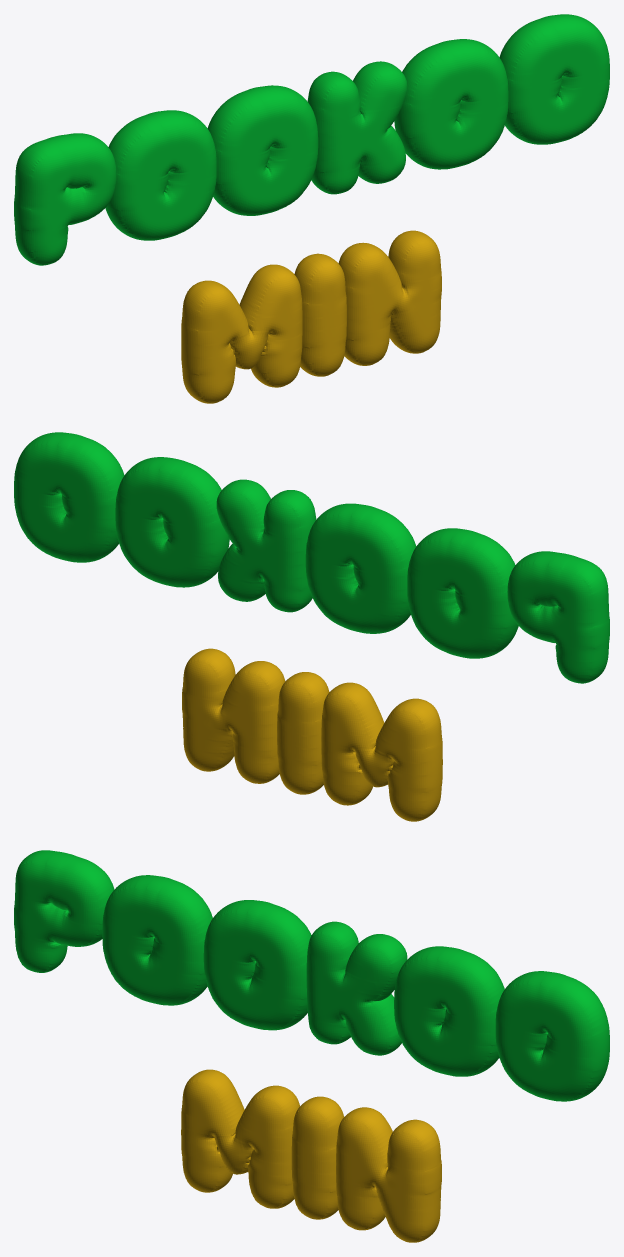
Rendered from POOKOOMINFONT.fbx.
3 views of the same model, one above another, from view 1: azimuth 30°, elevation 25°; view 2: azimuth 150°, elevation 25°; view 3: azimuth 330°, elevation 25° (orthographic).
Parts seen in each view (by area): view 1: Text.007, Text.005, Text.002, Text.003, Text.006, Text.009, Text.004, Text.001, Text.008; view 2: Text.007, Text.005, Text.002, Text.003, Text.006, Text.009, Text.004, Text.001, Text.008; view 3: Text.006, Text.007, Text.009, Text.005, Text.002, Text.003, Text.004, Text.001, Text.008.
Boxes of the visible parts, x1,y1,x2,y2 form: Text.007: (181, 264, 302, 403); Text.005: (394, 39, 508, 169); Text.002: (105, 110, 216, 240); Text.003: (207, 85, 318, 215); Text.006: (499, 14, 609, 144); Text.009: (338, 230, 441, 365); Text.004: (307, 61, 407, 194); Text.001: (14, 133, 116, 265); Text.008: (294, 253, 346, 376); Text.007: (321, 682, 442, 821); Text.005: (115, 457, 229, 587); Text.002: (407, 528, 518, 658); Text.003: (305, 503, 416, 633); Text.006: (14, 432, 124, 562); Text.009: (182, 648, 285, 783); Text.004: (216, 479, 316, 612); Text.001: (507, 551, 609, 683); Text.008: (277, 672, 329, 794); Text.006: (495, 971, 609, 1101); Text.007: (181, 1069, 299, 1208); Text.009: (336, 1107, 441, 1242); Text.005: (394, 946, 504, 1076); Text.002: (102, 875, 212, 1005); Text.003: (203, 900, 311, 1030); Text.004: (306, 921, 407, 1055); Text.001: (14, 850, 114, 972); Text.008: (291, 1096, 344, 1219).
Size of the model in its own units: 345 by 167 by 24.11.
